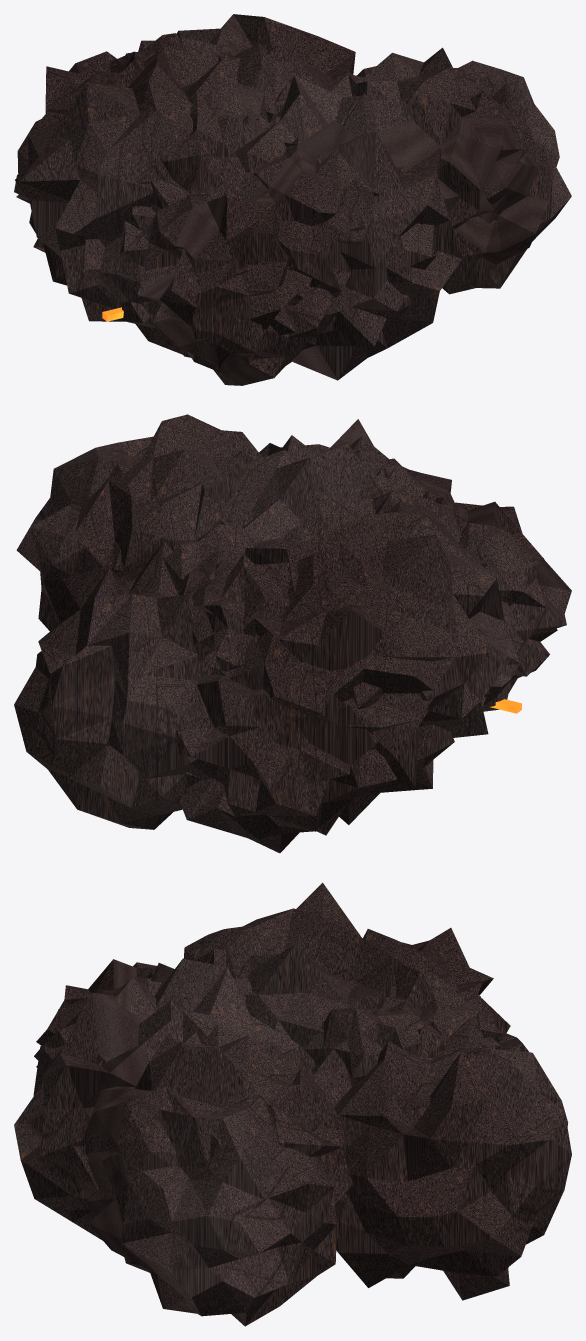
The model's file is floor4_corrupted_barrier_v1.glb.
3 renders of one model, top to bottom at view 1: azimuth 30°, elevation 25°; view 2: azimuth 150°, elevation 25°; view 3: azimuth 270°, elevation 25°, orthographic. The views are drawn at different scales.
Visible parts, largest first — view 1: Corruption_Mass_13, Corruption_Mass_06, Corruption_Mass_12, Corruption_Mass_02, Corruption_Mass_05, Corruption_Mass_08, Corruption_Mass_15, Corruption_Mass_09, Corruption_Mass_11, Corruption_Mass_00, Corruption_Mass_07, Corruption_Mass_04 (+3 smaller); view 2: Corruption_Mass_00, Corruption_Mass_13, Corruption_Mass_10, Corruption_Mass_04, Corruption_Mass_02, Corruption_Mass_06, Corruption_Mass_12, Corruption_Mass_05, Corruption_Mass_14, Corruption_Mass_01, Corruption_Mass_16, Corruption_Mass_11 (+3 smaller); view 3: Corruption_Mass_00, Corruption_Mass_05, Corruption_Mass_06, Corruption_Mass_02, Corruption_Mass_13, Corruption_Mass_01, Corruption_Mass_04, Corruption_Mass_15, Corruption_Mass_14, Corruption_Mass_11, Corruption_Mass_12, Corruption_Mass_08.
Boxes of the visible parts, x1,y1,x2,y2 form: Corruption_Mass_13: (15,49,269,308); Corruption_Mass_06: (235,75,469,380); Corruption_Mass_12: (137,177,311,367); Corruption_Mass_02: (331,47,538,259); Corruption_Mass_05: (442,60,571,294); Corruption_Mass_08: (254,136,378,297); Corruption_Mass_15: (264,93,462,334); Corruption_Mass_09: (142,172,333,385); Corruption_Mass_11: (134,88,265,210); Corruption_Mass_00: (176,14,355,91); Corruption_Mass_07: (96,206,158,328); Corruption_Mass_04: (14,42,186,198); Corruption_Mass_00: (14,542,214,829); Corruption_Mass_13: (244,486,514,793); Corruption_Mass_10: (174,666,396,853); Corruption_Mass_04: (205,543,436,749); Corruption_Mass_02: (75,414,262,568); Corruption_Mass_06: (213,419,430,542); Corruption_Mass_12: (442,501,571,679); Corruption_Mass_05: (16,436,153,630); Corruption_Mass_14: (182,553,290,676); Corruption_Mass_01: (163,524,258,595); Corruption_Mass_16: (339,690,491,824); Corruption_Mass_11: (346,490,487,567); Corruption_Mass_00: (334,1017,571,1300); Corruption_Mass_05: (86,1090,346,1326); Corruption_Mass_06: (14,958,314,1240); Corruption_Mass_02: (84,1024,352,1206); Corruption_Mass_13: (224,882,417,1049); Corruption_Mass_01: (304,1007,448,1107); Corruption_Mass_04: (346,928,510,1049); Corruption_Mass_15: (27,977,180,1222); Corruption_Mass_14: (380,971,503,1049); Corruption_Mass_11: (183,925,277,1004); Corruption_Mass_12: (36,959,156,1045); Corruption_Mass_08: (34,977,158,1060).
Bounding box in the file's own units: 5.02 × 2.91 × 4.69.
Materials: 2 (2 with a texture image).
